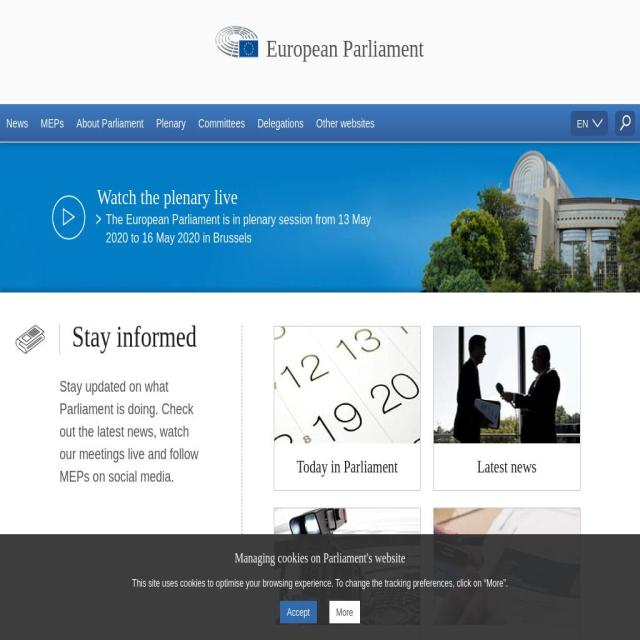button: (0, 142, 640, 292), (273, 326, 421, 491), (433, 326, 581, 491), (273, 507, 421, 640), (433, 507, 580, 640), (70, 104, 150, 142), (309, 104, 382, 142), (192, 104, 251, 142), (251, 104, 310, 142), (150, 104, 192, 142), (34, 104, 70, 142), (0, 104, 35, 142), (279, 601, 317, 623), (328, 601, 361, 623)
field: (577, 117, 589, 130)
heading: (6, 551, 634, 566), (59, 322, 208, 355), (266, 34, 424, 63), (97, 183, 238, 211)
text: (59, 376, 208, 488), (0, 577, 640, 601), (106, 210, 390, 248), (274, 443, 421, 490), (434, 443, 580, 490), (274, 625, 421, 640), (434, 625, 580, 640), (286, 606, 310, 618), (618, 114, 632, 132), (336, 606, 354, 618)
